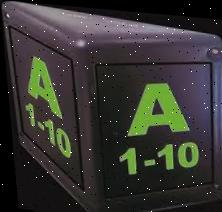cube: (3, 0, 222, 212)
